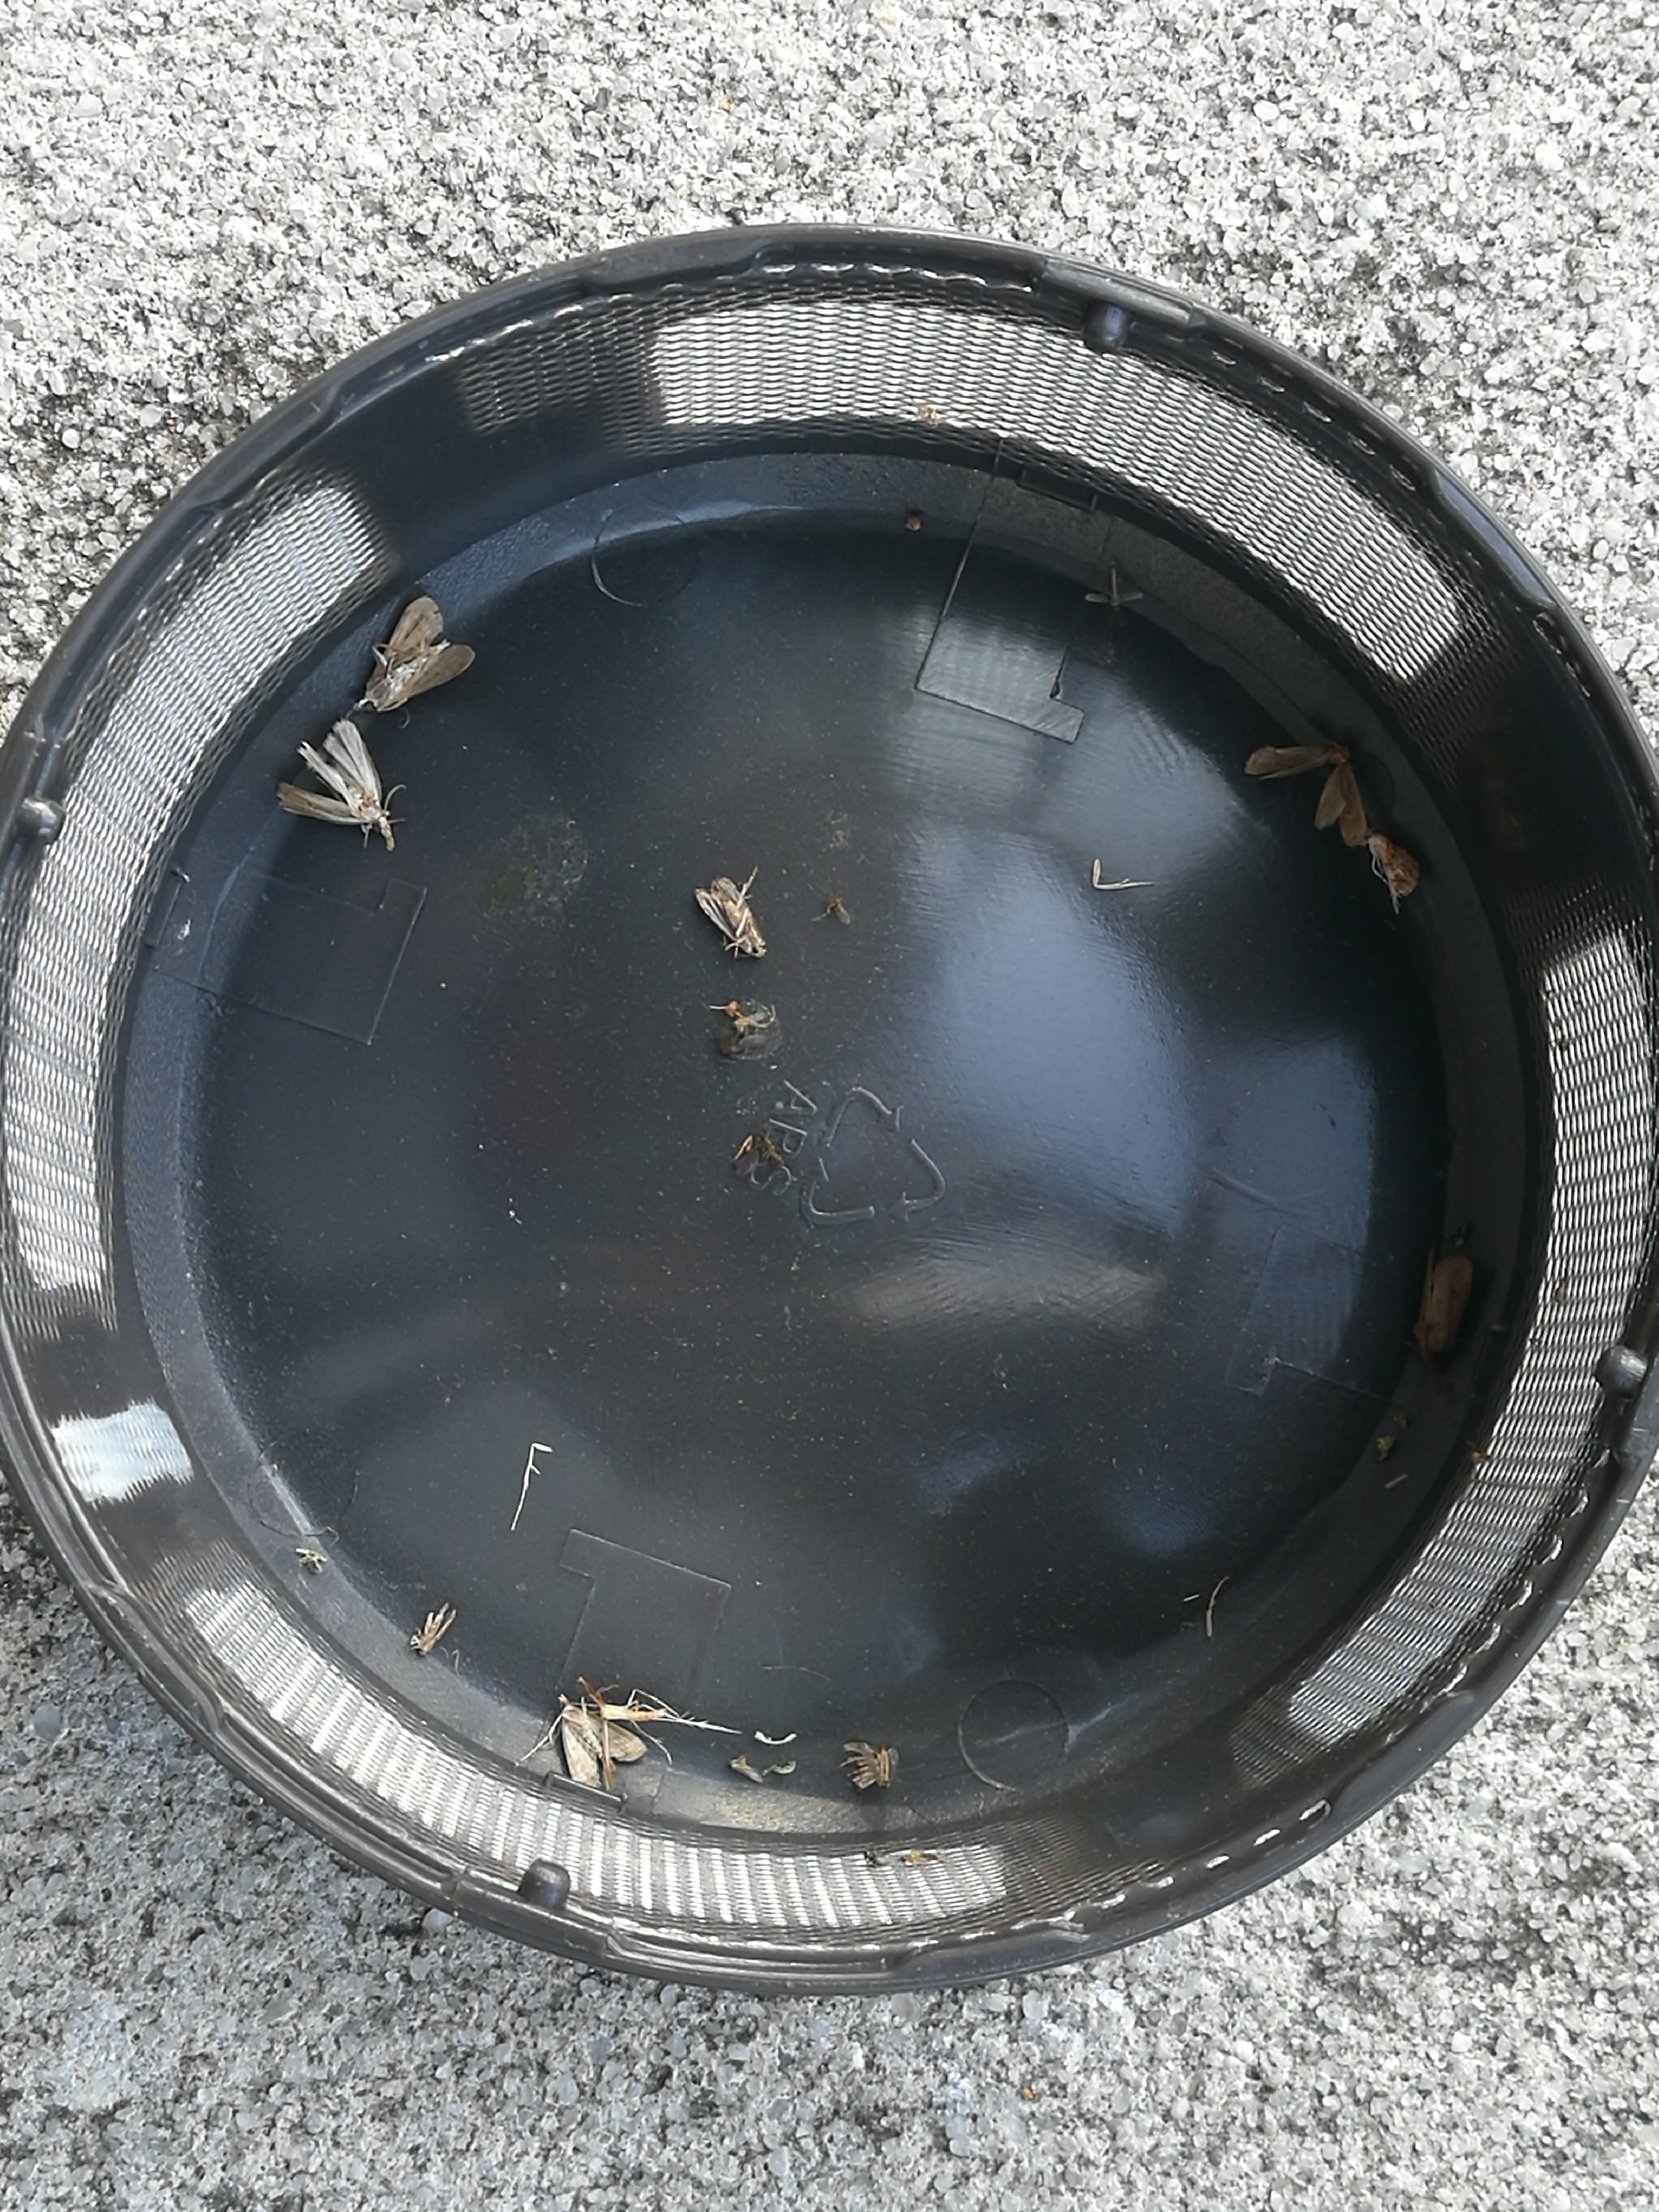mosquito: (418, 1602, 457, 1655)
moth: (357, 596, 476, 711), (1246, 745, 1366, 846), (277, 721, 383, 826), (561, 1696, 648, 1791), (1415, 1251, 1474, 1352), (695, 880, 767, 960), (1370, 834, 1419, 894)
